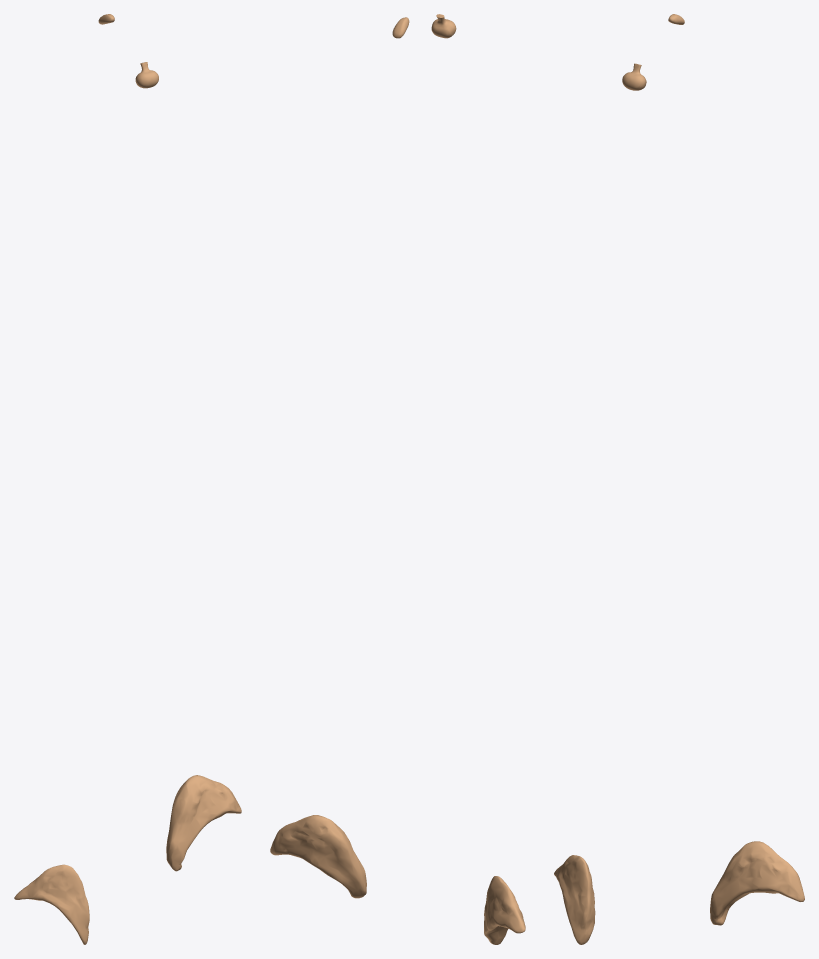
File: endocrine.glb
3 views of the same model, side by side, from view 1: azimuth 30°, elevation 25°; view 2: azimuth 150°, elevation 25°; view 3: azimuth 330°, elevation 25° (orthographic). The views are drawn at different scales.
Parts seen in each view (by area): view 1: FMA15630, FMA15629; view 2: FMA15630, FMA15629; view 3: FMA15630, FMA15629.
Part boxes in pixels (<box>): FMA15630: <box>166,775,241,871</box>; FMA15629: <box>14,864,89,944</box>; FMA15630: <box>270,815,366,898</box>; FMA15629: <box>484,876,525,944</box>; FMA15630: <box>710,841,804,925</box>; FMA15629: <box>554,855,595,944</box>.
Size of the model in its own units: 0.2818 by 1.03 by 0.105.
